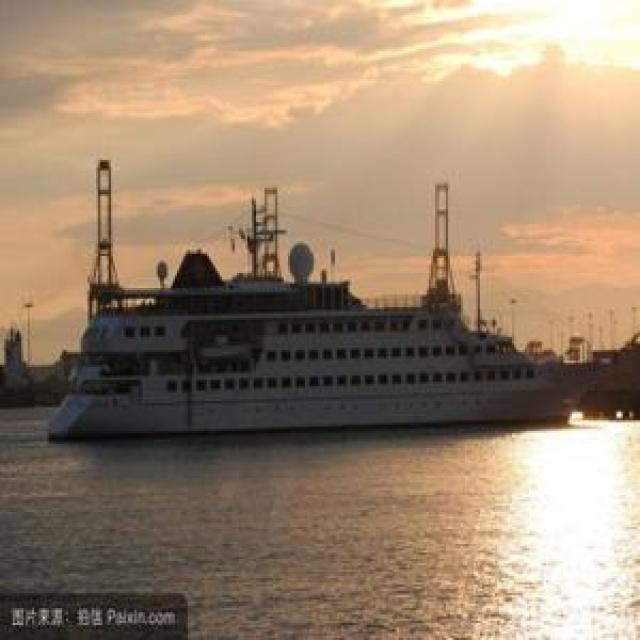passenger ship: (47, 209, 580, 434)
